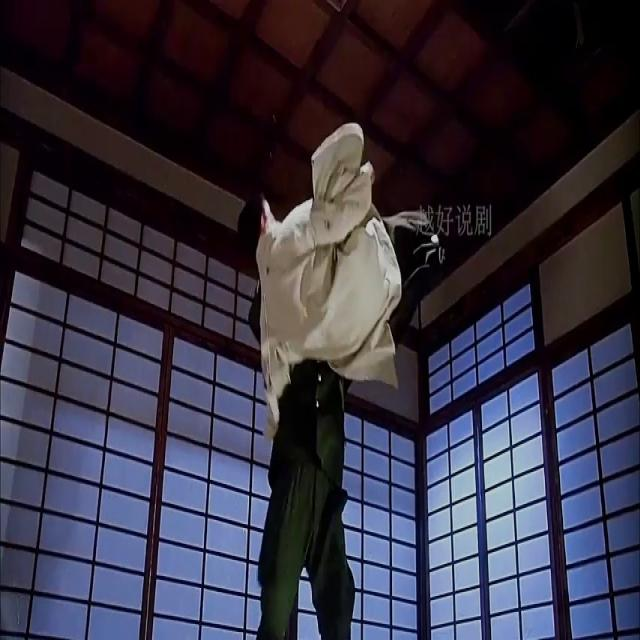fight: (236, 117, 444, 640)
